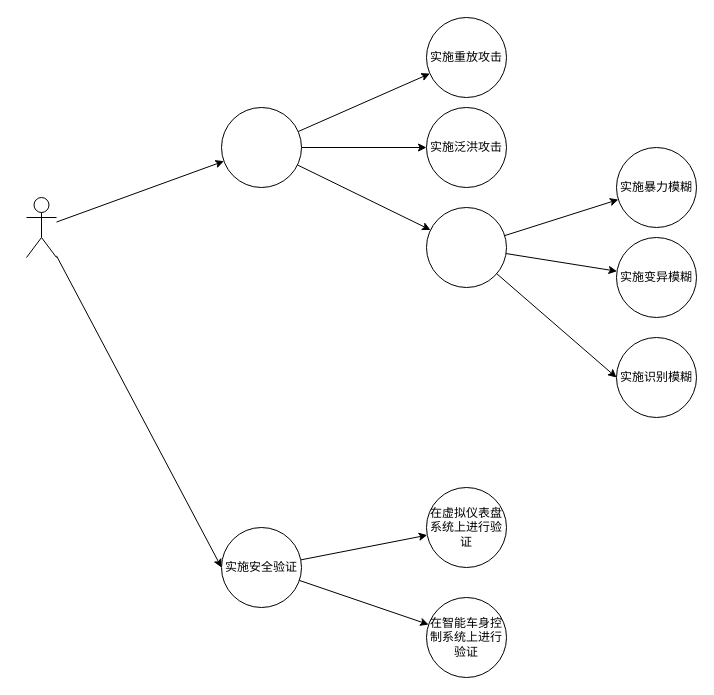
The diagram is 714 pixels wide and 695 high, and some of its shapes have lost their labels. The shapes that lost their labels are listed below. From the top down, each one's centre as x and y in pixels, then its label:
the point at 261,147: 进行安全测试工作
the point at 41,227: 测试人员
the point at 466,247: 实施模糊测试
